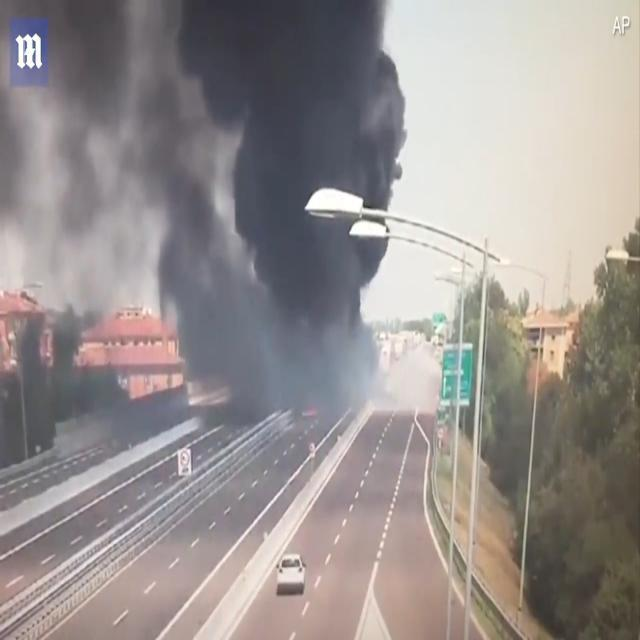Smoke: (0, 0, 406, 425)
